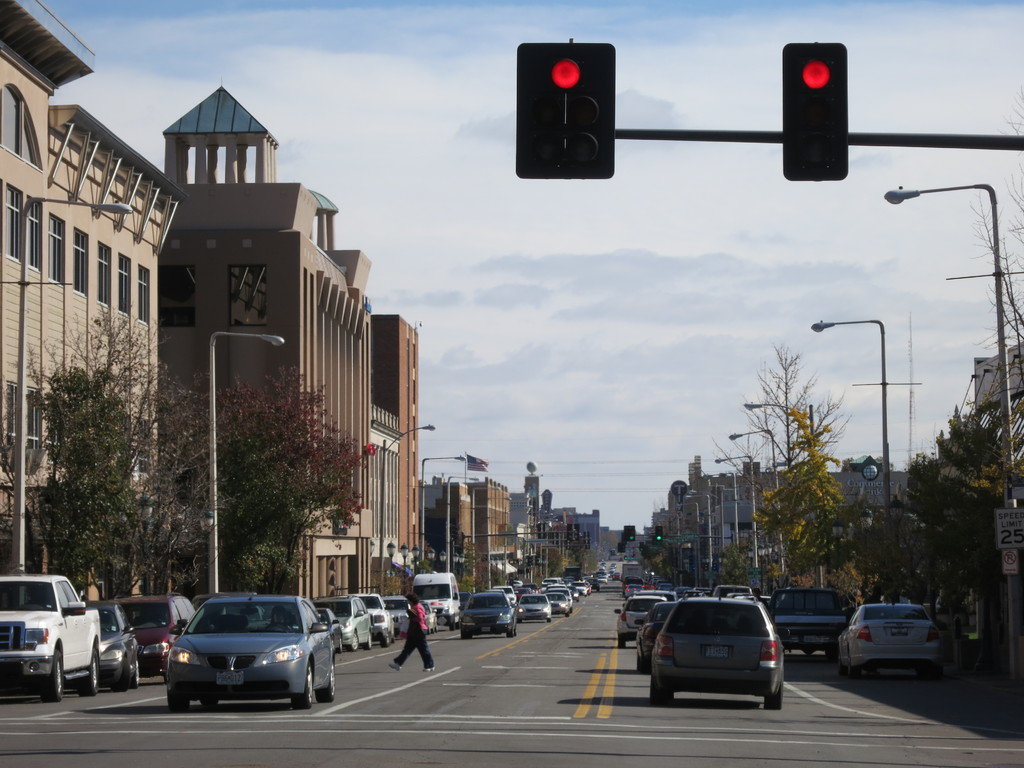green_light: (626, 526, 635, 544), (655, 526, 662, 545)
red_light: (519, 43, 614, 176), (785, 44, 848, 180)
